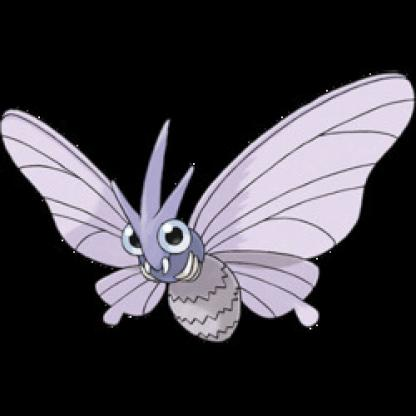Venomoth: (1, 45, 416, 366)
